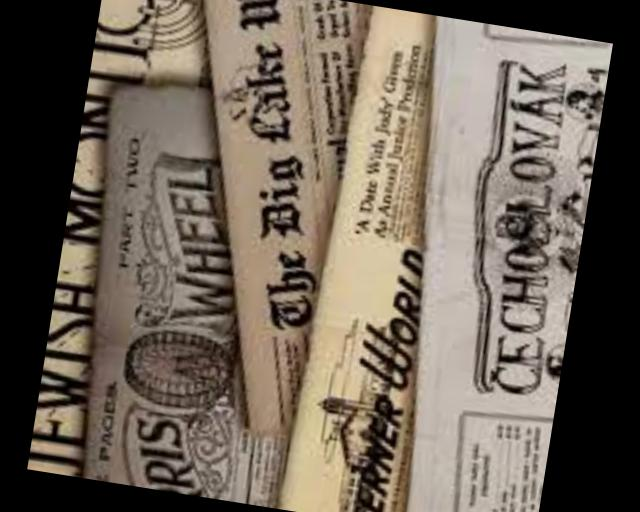cardboard paper: (404, 15, 613, 512), (68, 242, 97, 316), (55, 410, 85, 471)
